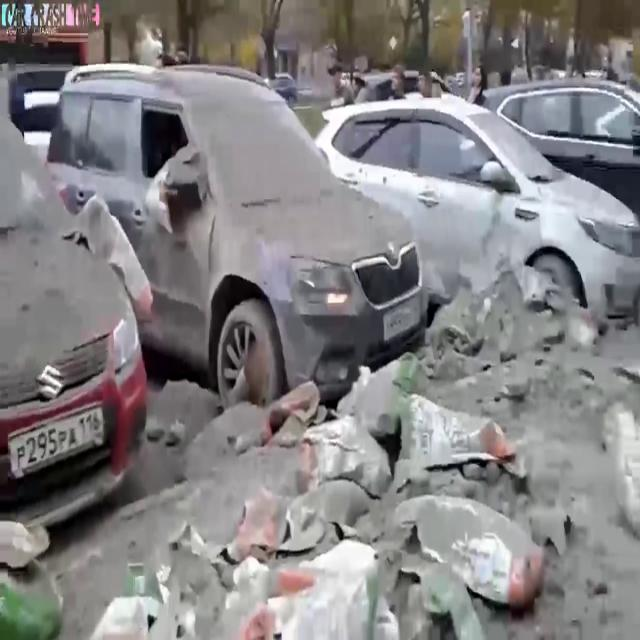Accident: (146, 0, 446, 379), (408, 56, 608, 377), (0, 82, 153, 460)
